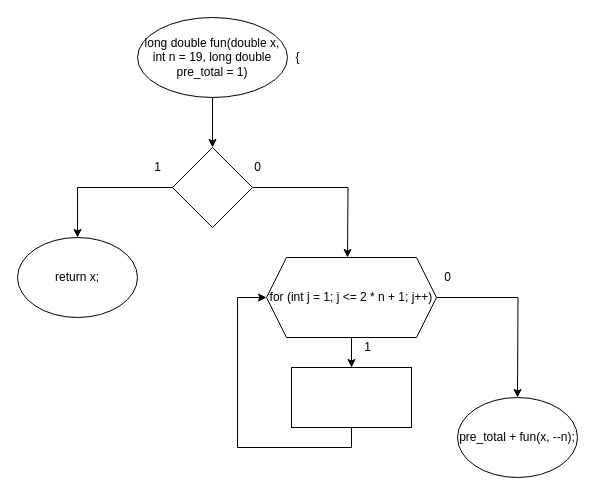
Some shapes in this 595 by 495 pixel diagram are drawn without their labels. The shapes that lost their labels are listed below. From the top down, each one's centre as x and y in pixels, then its label:
At (x=212, y=187): "if (n == 0)".
At (x=351, y=397): "pre_total *= x / j;".
